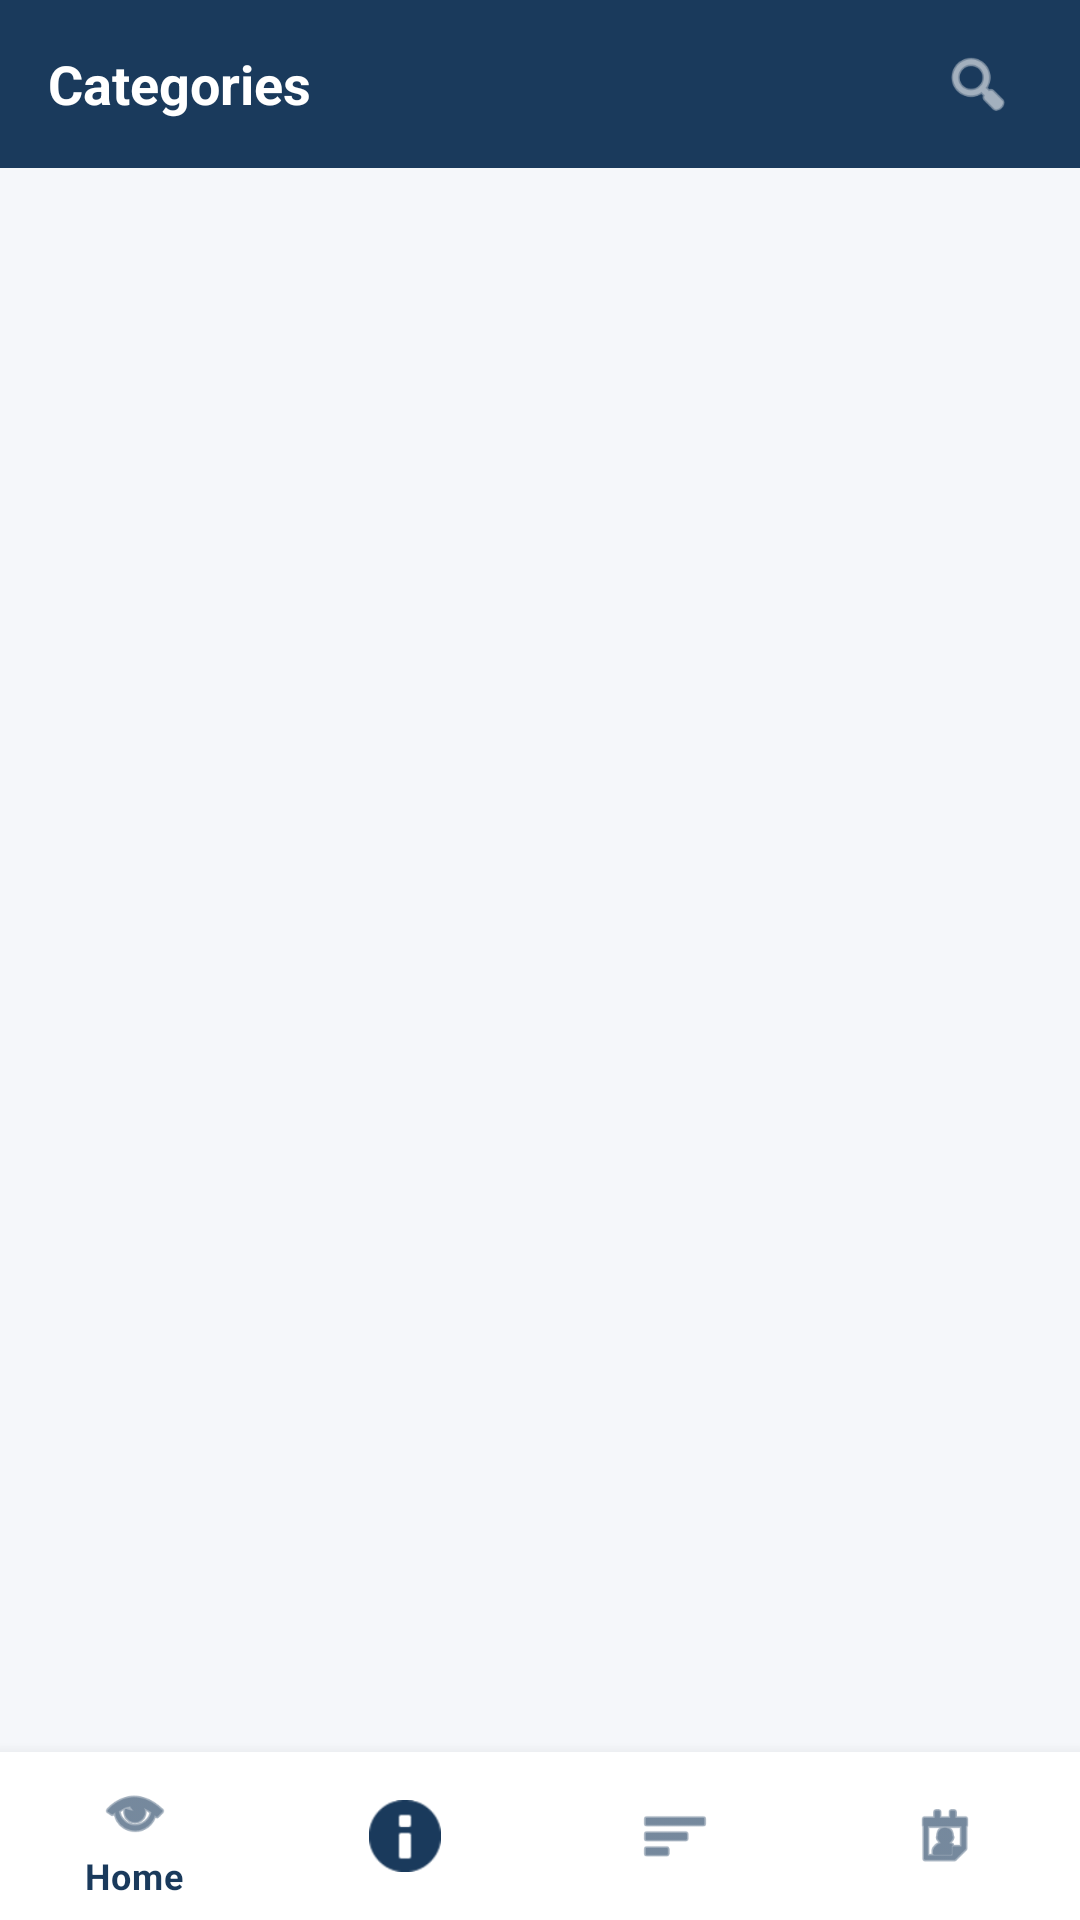

Named icons in this screenshot (1080 x 1920) and their bounding boxes, bbox=(x1, y1, x2, y2):
search: bbox=(951, 58, 1005, 111)
